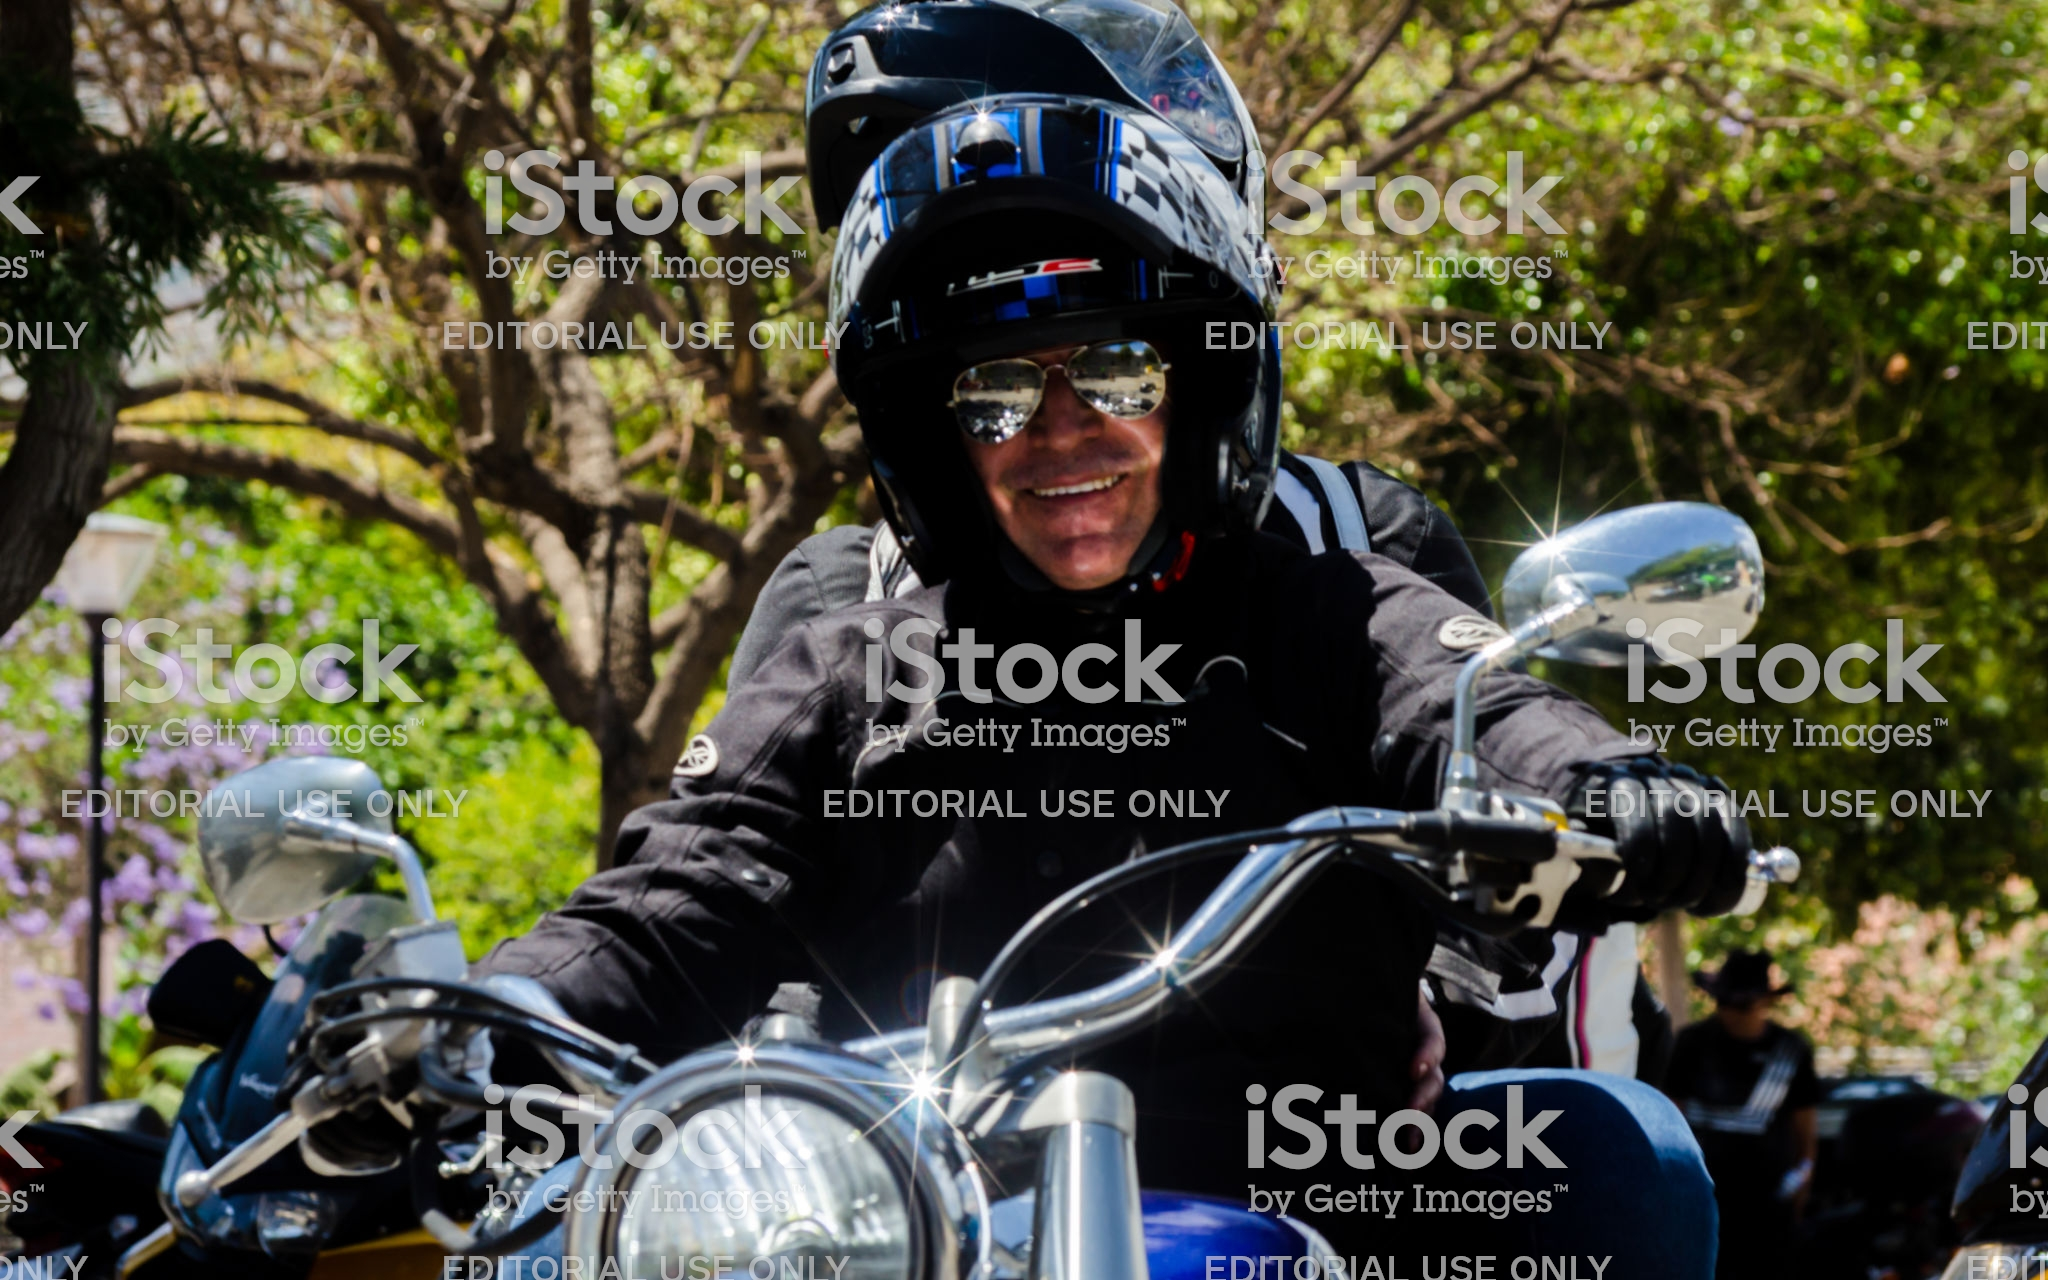helmet: (805, 106, 1305, 543)
